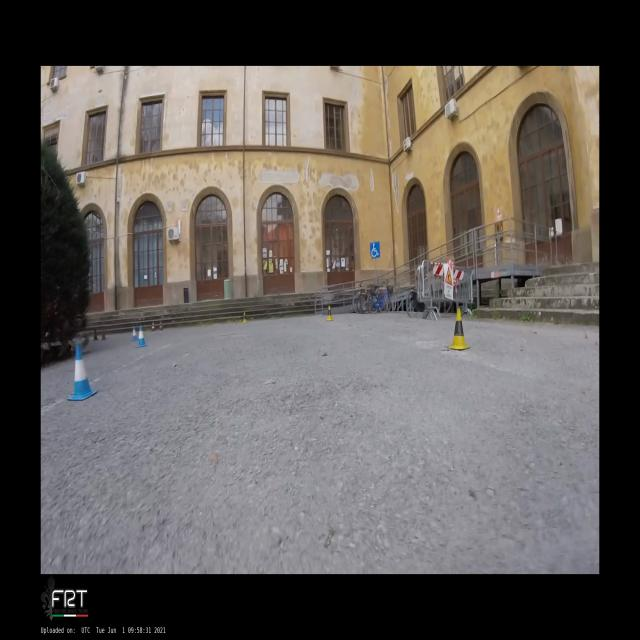blue_cone: (67, 344, 98, 401), (136, 326, 148, 348), (131, 326, 138, 341)
large_orange_cone: (151, 322, 156, 332), (159, 320, 163, 330)
unknown_cone: (101, 331, 106, 341), (94, 330, 98, 340)
yellow_cone: (447, 308, 470, 351), (326, 305, 334, 321), (242, 311, 248, 323)
